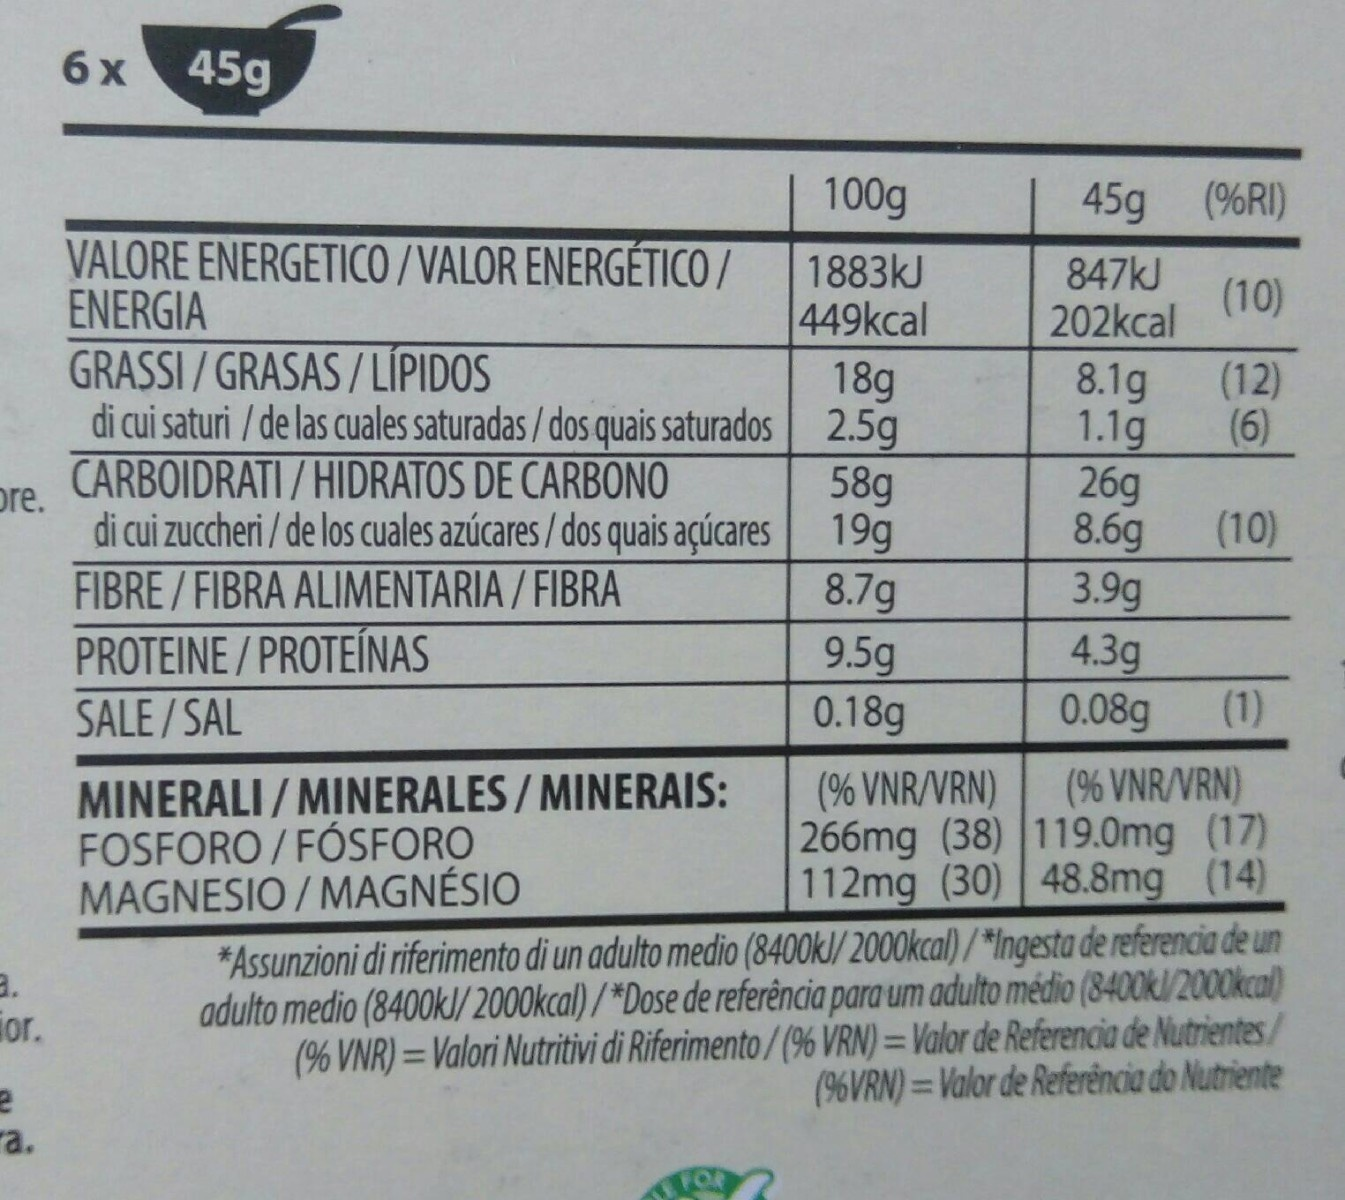column: (74, 124, 773, 746), (797, 129, 935, 739), (1048, 122, 1180, 748), (1200, 124, 1285, 739)
table: (63, 123, 1301, 764)
